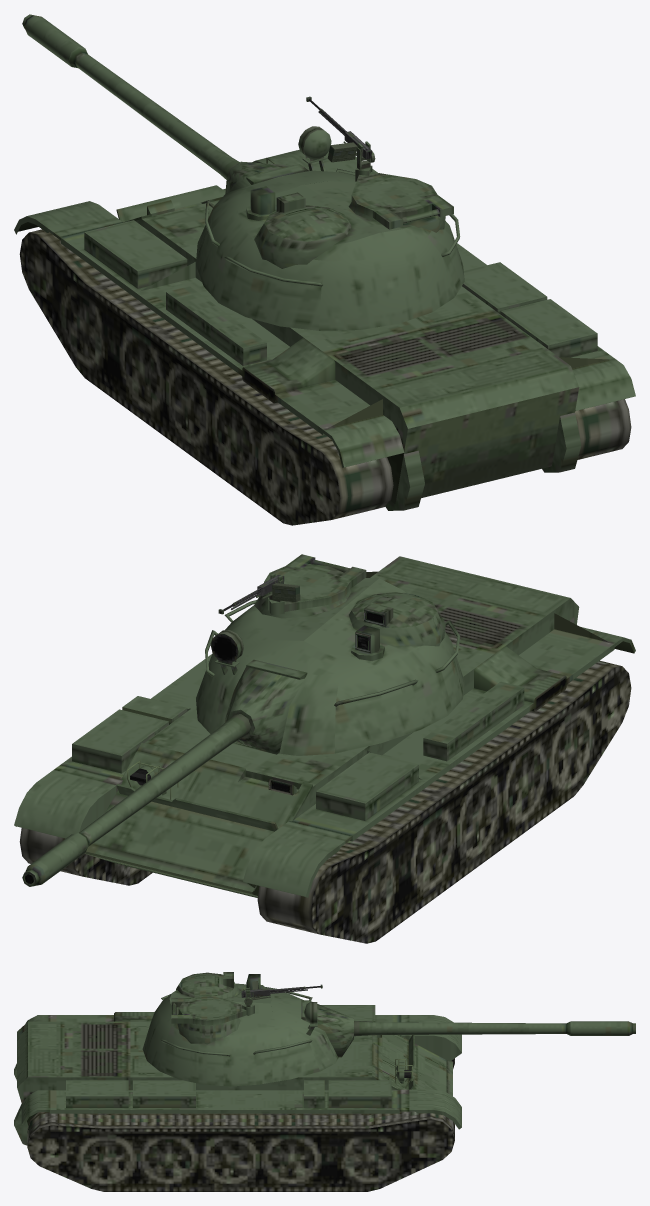
File: army_tanks.glb
3 views of the same model, one above another, from view 1: azimuth 30°, elevation 25°; view 2: azimuth 150°, elevation 25°; view 3: azimuth 270°, elevation 25° (orthographic). The views are drawn at different scales.
Visible parts, largest first — view 1: T-55, turret_006, barrel; view 2: T-55, turret_006, barrel; view 3: T-55, turret_006, barrel.
Part boxes in pixels (bbox=[...]): T-55: bbox=[14, 149, 635, 525]; turret_006: bbox=[196, 96, 464, 330]; barrel: bbox=[22, 14, 310, 193]; T-55: bbox=[14, 556, 635, 943]; turret_006: bbox=[196, 554, 464, 755]; barrel: bbox=[22, 667, 304, 886]; T-55: bbox=[14, 1005, 461, 1191]; turret_006: bbox=[142, 972, 338, 1086]; barrel: bbox=[304, 1001, 635, 1057].
Bounding box in the file's own units: 0.542 × 0.4615 × 1.5.
Materials: 3 (3 with a texture image).
